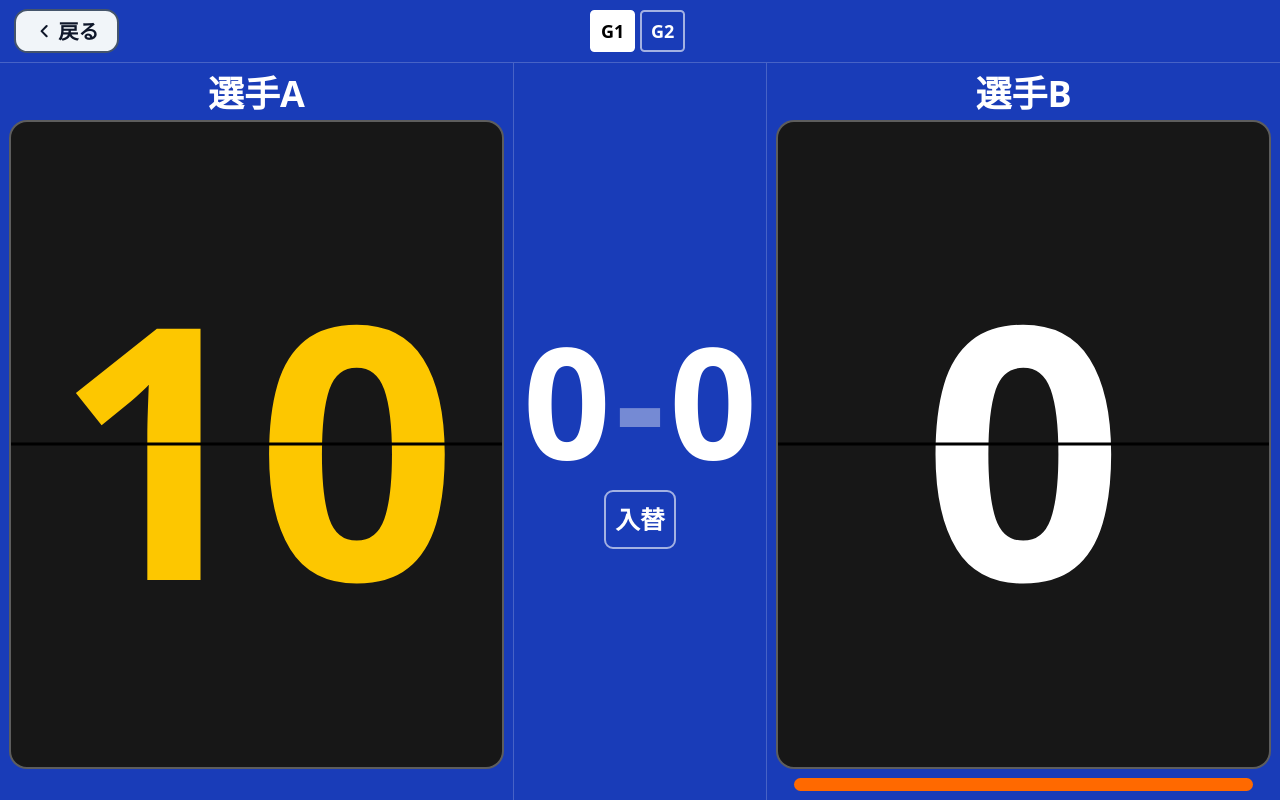
Test: ScoreboardScreen › winsNeeded=2 で1ゲーム目終了後に 次に進む ボタンが表示される
The image size is (1280, 800).
Click the button named "選手A を1増やす": (256, 283) [11,122,502,444]
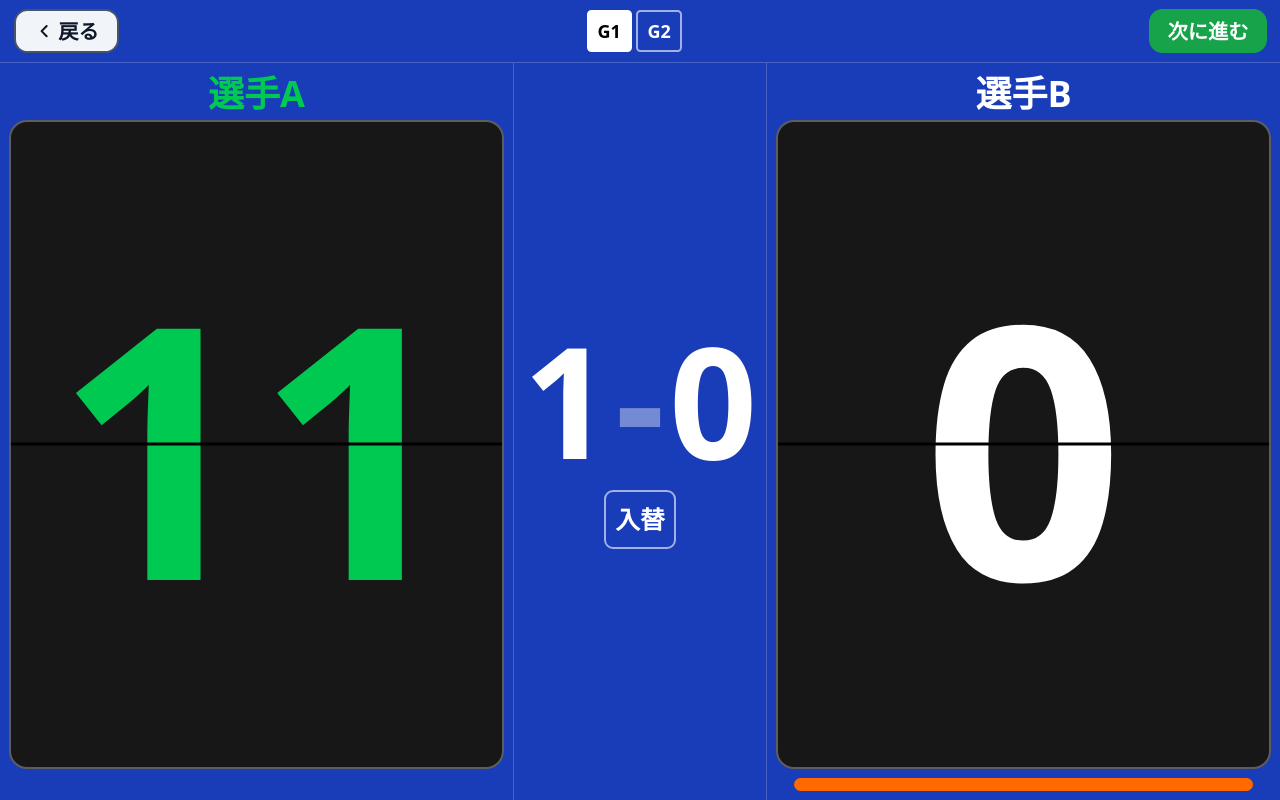
Check: the button "次に進む" is shown, box [1150,9,1266,53]
